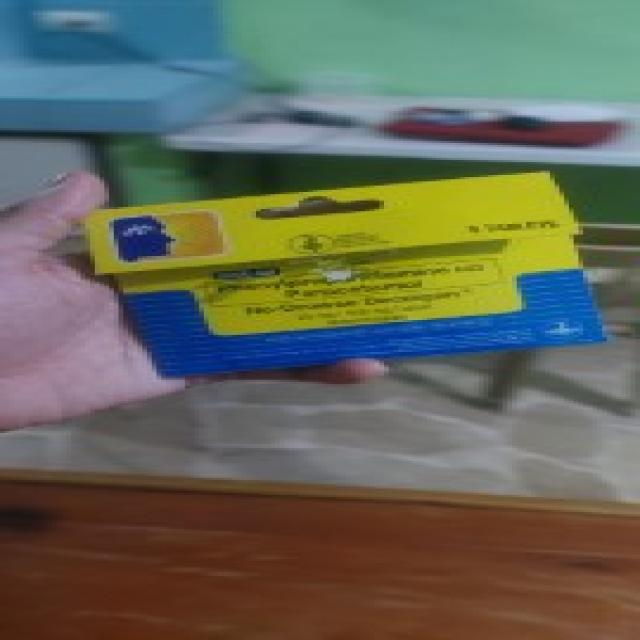Cacat: (78, 174, 612, 378)
